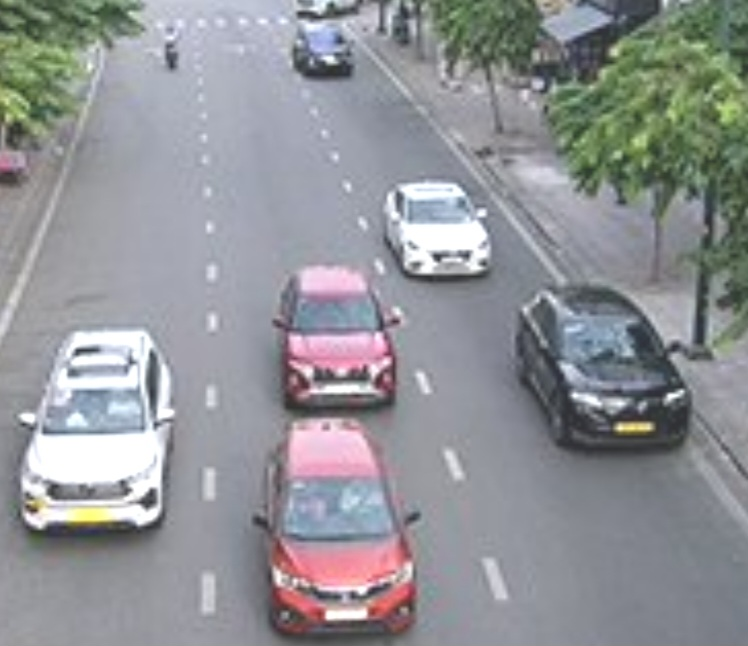car: (263, 420, 418, 638), (17, 329, 172, 534), (512, 283, 689, 453), (275, 266, 398, 408), (382, 181, 494, 278), (292, 19, 352, 78)
